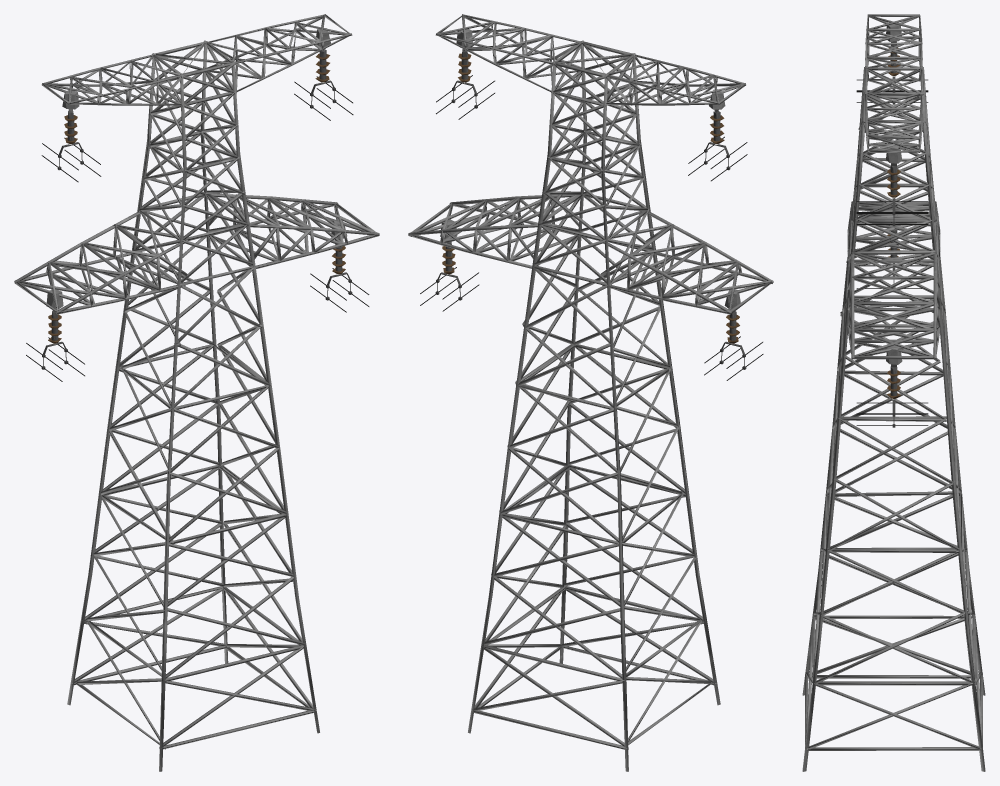
Rendered from pylon.glb.
The picture shows the model from 3 angles, left to right: view 1: azimuth 30°, elevation 25°; view 2: azimuth 150°, elevation 25°; view 3: azimuth 270°, elevation 25°; orthographic projection.
Parts seen in each view (by area): view 1: Pylon; view 2: Pylon; view 3: Pylon.
Boxes of the visible parts, x1,y1,x2,y2 form: Pylon: (14, 14, 379, 771); Pylon: (408, 14, 773, 771); Pylon: (802, 14, 985, 771).
Size of the model in its own units: 10.35 by 20.25 by 5.14.
Materials: 6 (6 with a texture image).
